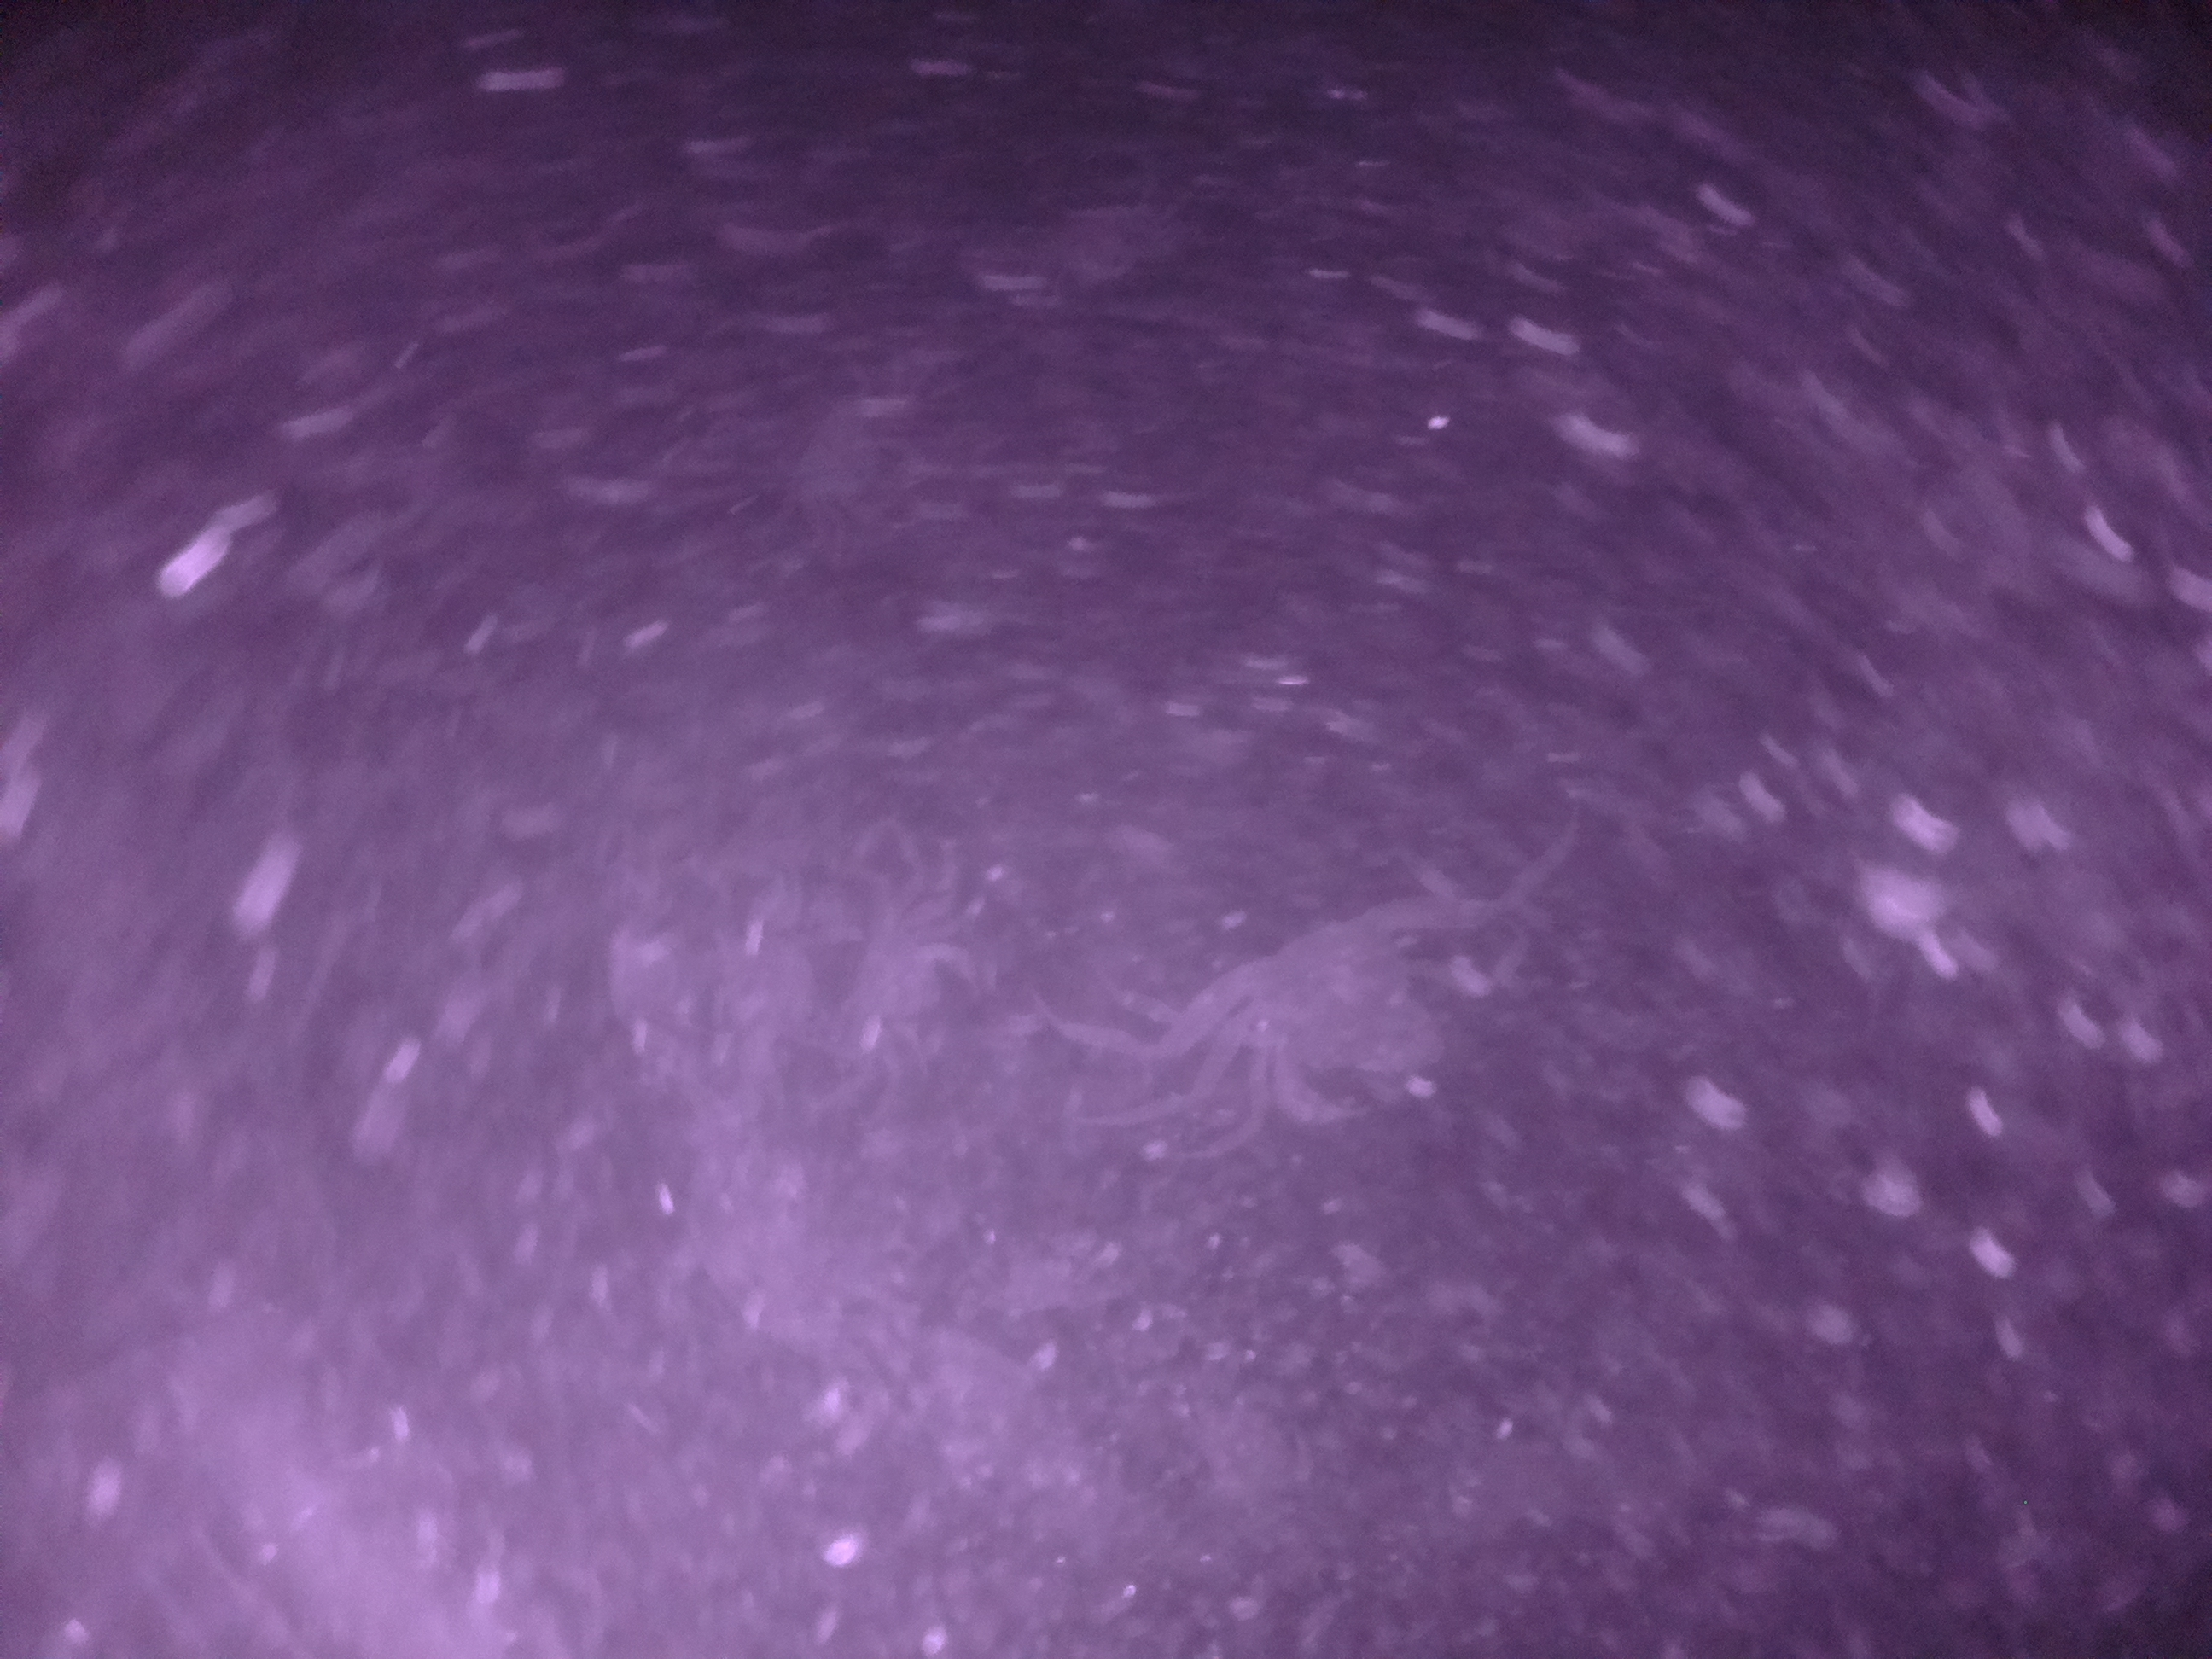Crab: (1197, 857, 1493, 1150), (827, 852, 989, 1108)
